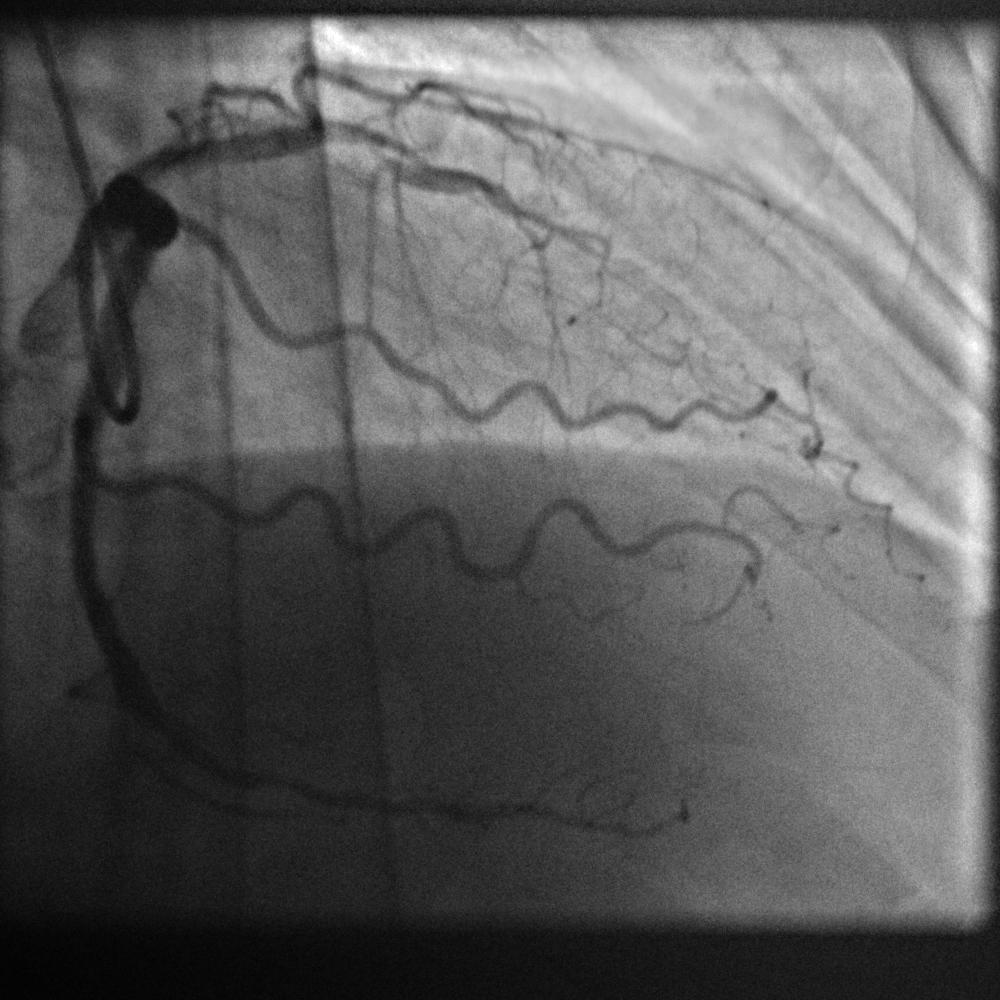Stenosis: (127, 694, 180, 744)
